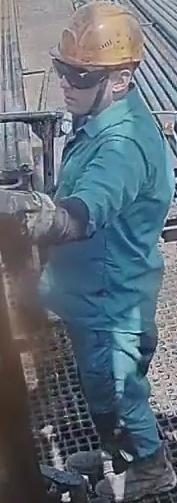gloves: (0, 186, 67, 251)
goggles: (47, 57, 126, 91)
helmet: (55, 0, 145, 67)
vest: (42, 86, 174, 332)
